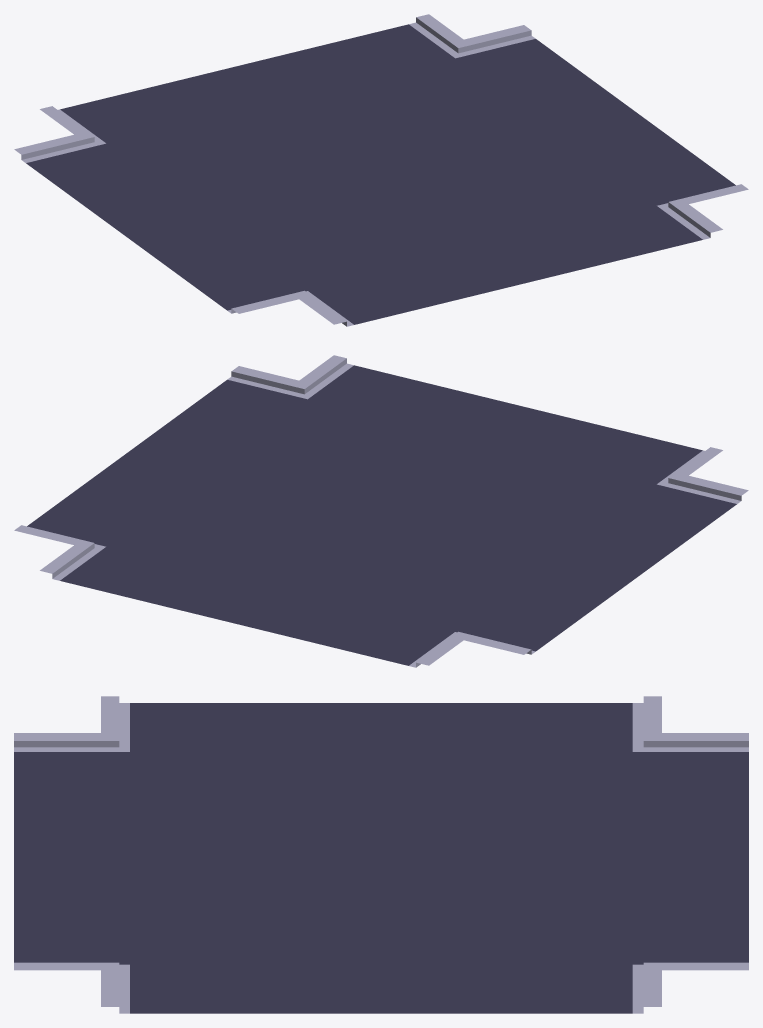
Rendered from block_4.fbx.
3 renders of one model, top to bottom at view 1: azimuth 30°, elevation 25°; view 2: azimuth 150°, elevation 25°; view 3: azimuth 270°, elevation 25°, orthographic. The views are drawn at different scales.
Visible parts, largest first — view 1: Block_4; view 2: Block_4; view 3: Block_4.
Part boxes in pixels (x1,y1,x2,y2): Block_4: [14, 14, 748, 326]; Block_4: [14, 355, 748, 667]; Block_4: [14, 696, 748, 1013].
Size of the model in its own units: 13.02 by 0.1268 by 13.02.
